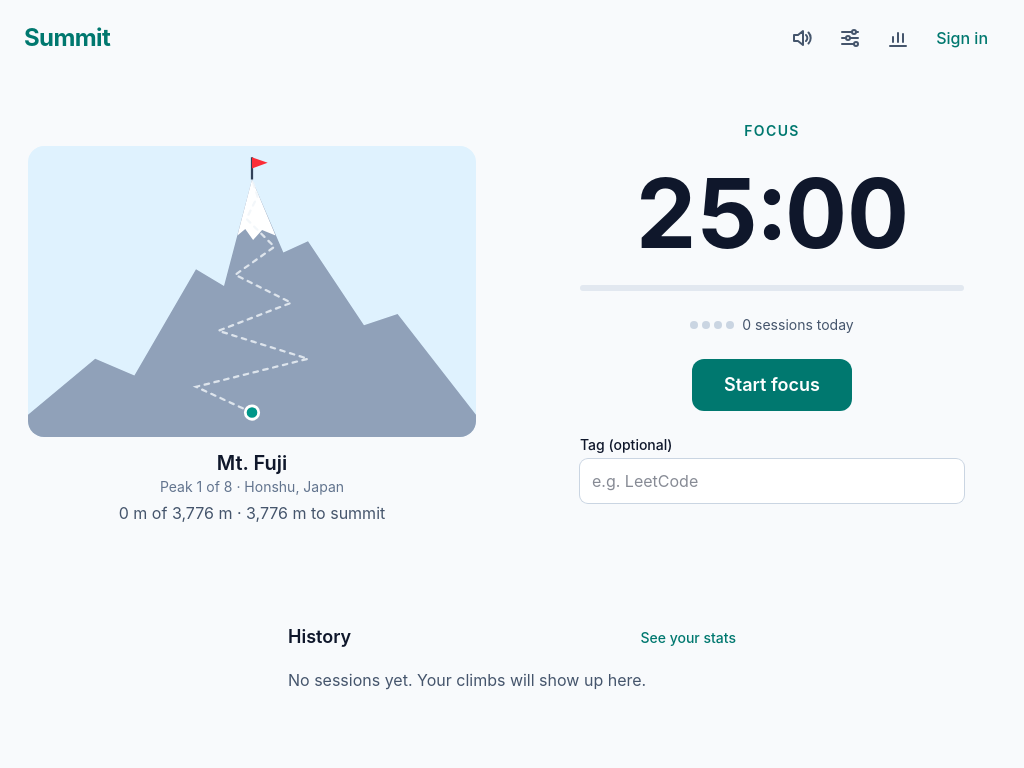
App: sessions, history, and reloads › records a completed session in history, today's count, and climb progress
This screenshot has width=1024, height=768.
expect the picture named "Climber at 0 m of 3,776 m on Mt. Fuji" is shown: met, box [28,146,476,437]
Click the button "Start focus" at point(772, 384), box [692,358,852,410]
Wait 1500000 ms
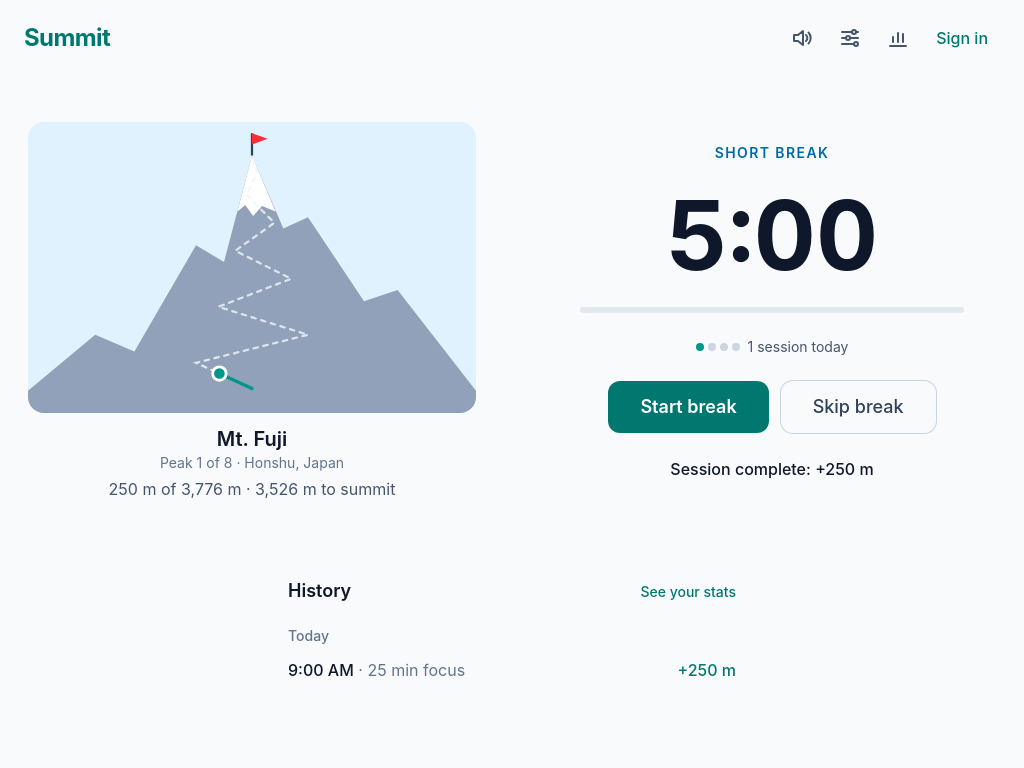
expect the picture named "Climber at 250 m of 3,776 m on Mt. Fuji" is shown: met, box [28,122,476,413]
expect the text "1 session today" is shown: met, box [696,337,848,357]
expect the text "+250 m" is shown: met, box [678,658,736,682]
